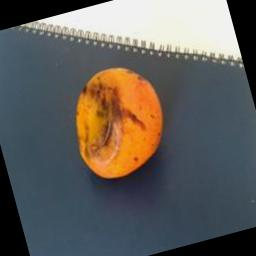Mango Rotten: (56, 43, 182, 201)
